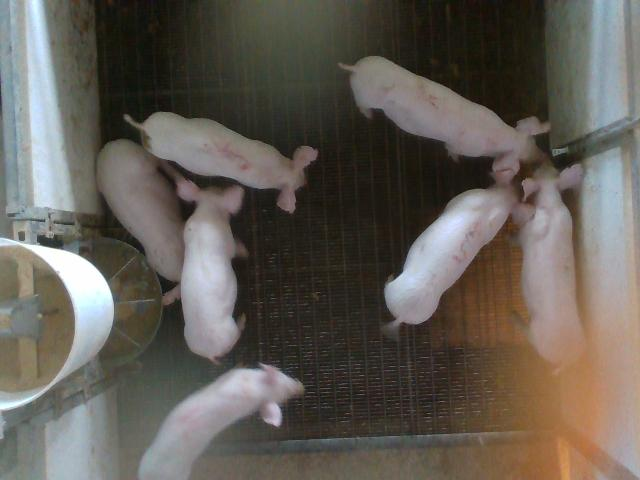pig-3: (382, 180, 534, 335)
pig-4: (139, 364, 304, 478)
pig-5: (124, 112, 317, 212)
